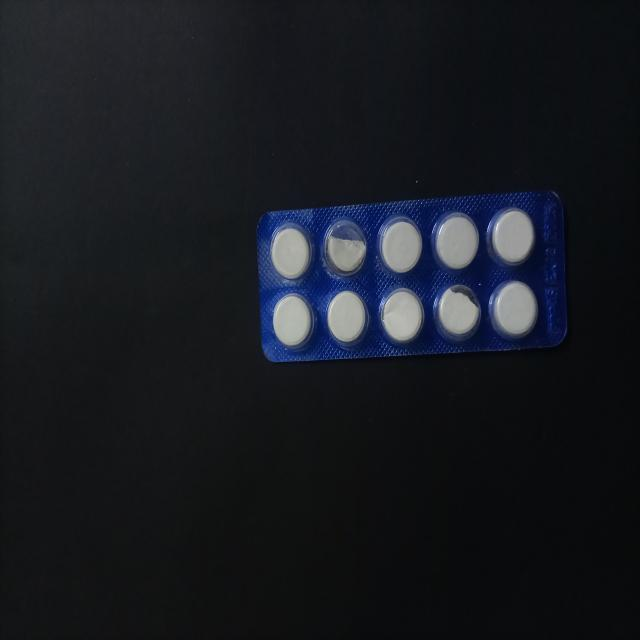defect: (432, 280, 483, 347), (322, 216, 369, 282)
